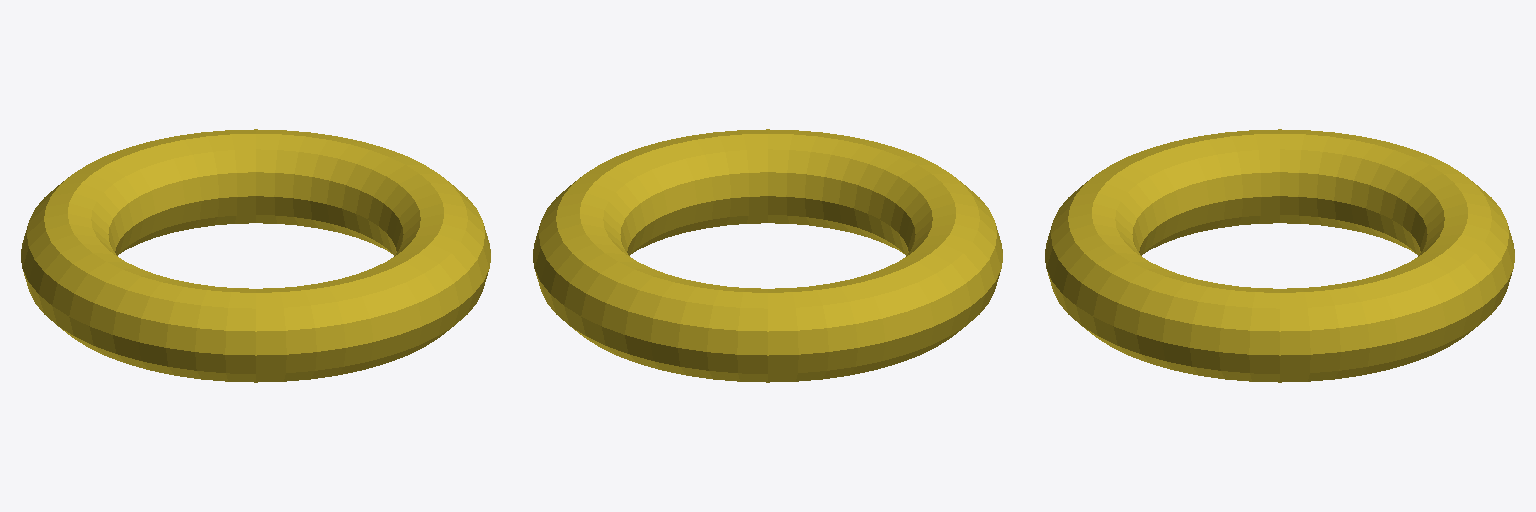
The model's file is ring.obj.
The picture shows the model from 3 angles: view 1: azimuth 30°, elevation 25°; view 2: azimuth 150°, elevation 25°; view 3: azimuth 270°, elevation 25°; orthographic projection.
Visible parts, largest first — view 1: Torus; view 2: Torus; view 3: Torus.
Boxes of the visible parts, box(x1,y1,x2,y2) form: Torus: box(21, 129, 490, 382); Torus: box(533, 129, 1002, 382); Torus: box(1045, 129, 1514, 382).
Size of the model in its own units: 2.5 by 0.5 by 2.5.